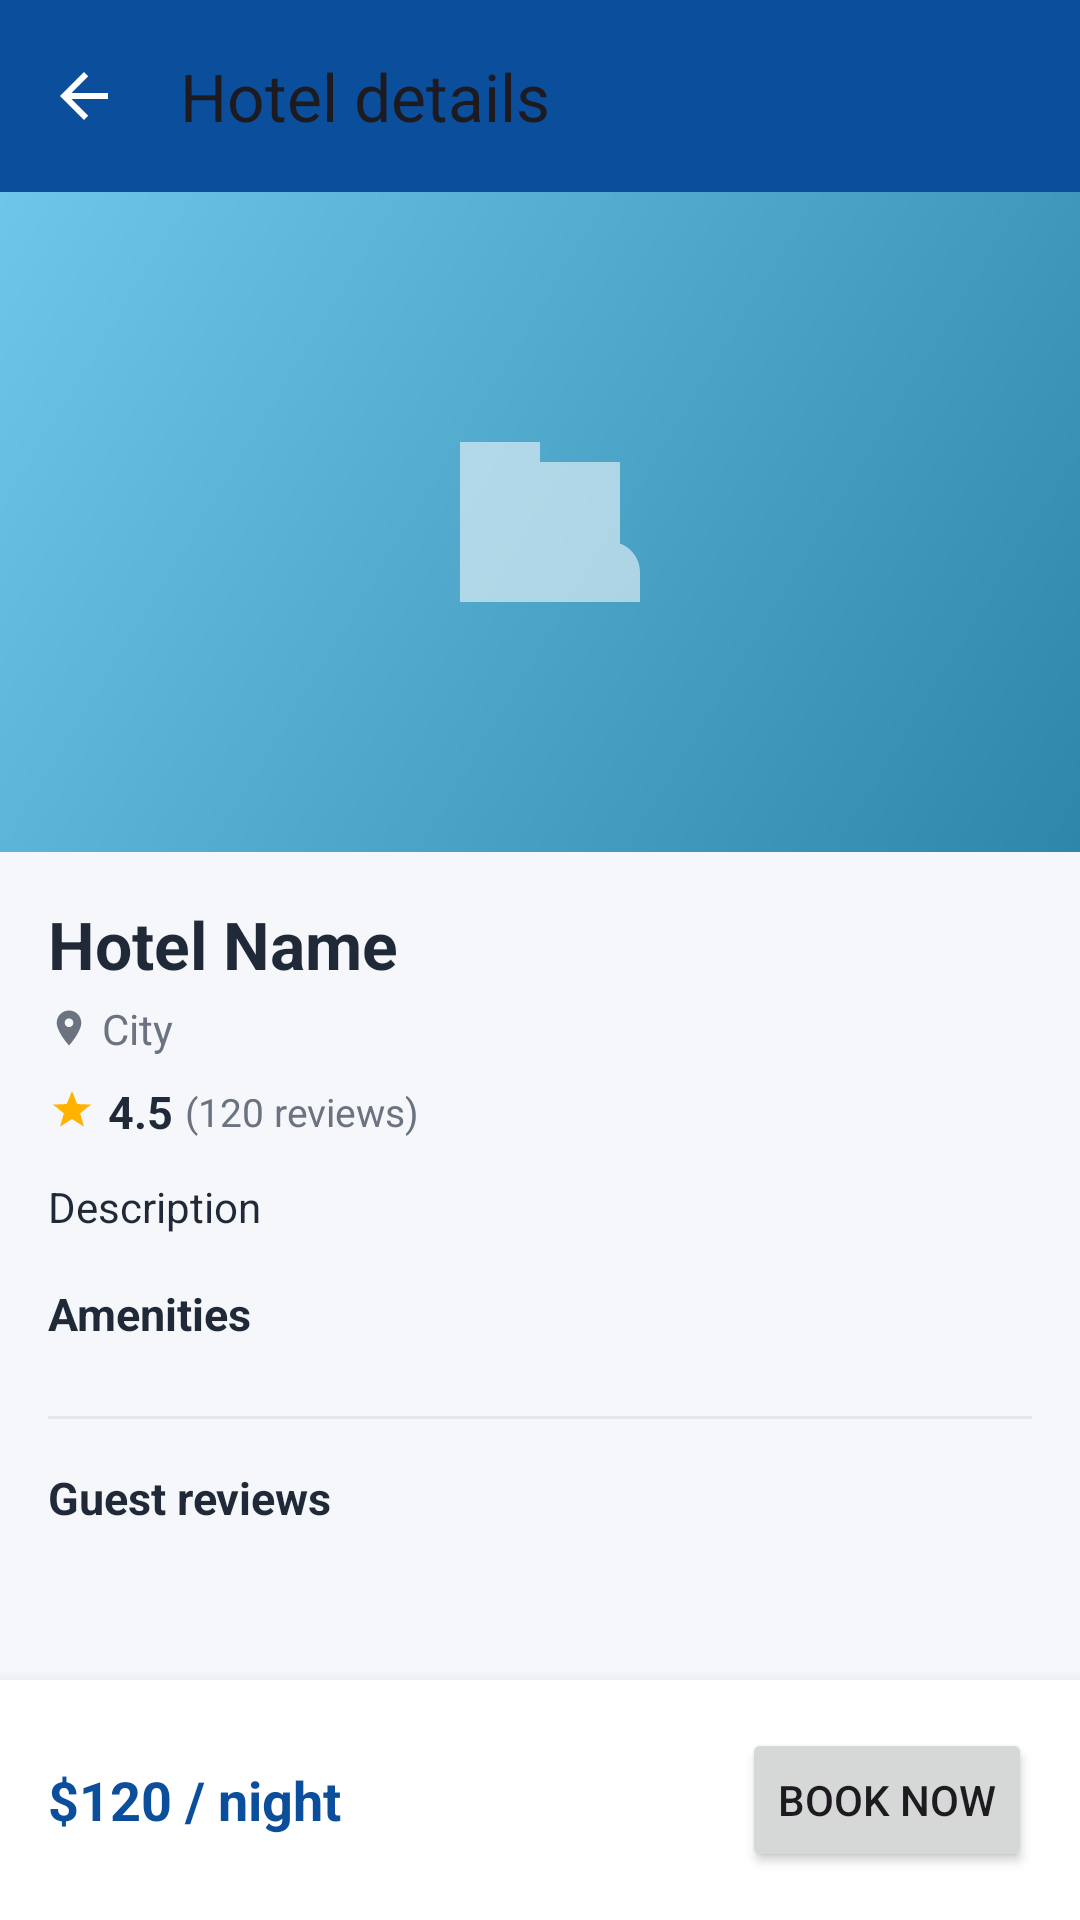

Screen size 1080*1920. Icon name, then its center in pixels as (x=x, y=y):
location: (x=69, y=1027)
star: (x=72, y=1109)
